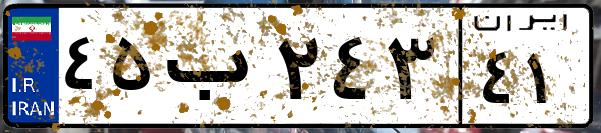1: (525, 38, 570, 115)
2: (270, 28, 330, 110)
3: (385, 28, 445, 110)
4: (330, 28, 385, 110), (57, 26, 110, 100), (475, 38, 525, 113)
5: (110, 28, 158, 98)
ب: (158, 20, 270, 120)
